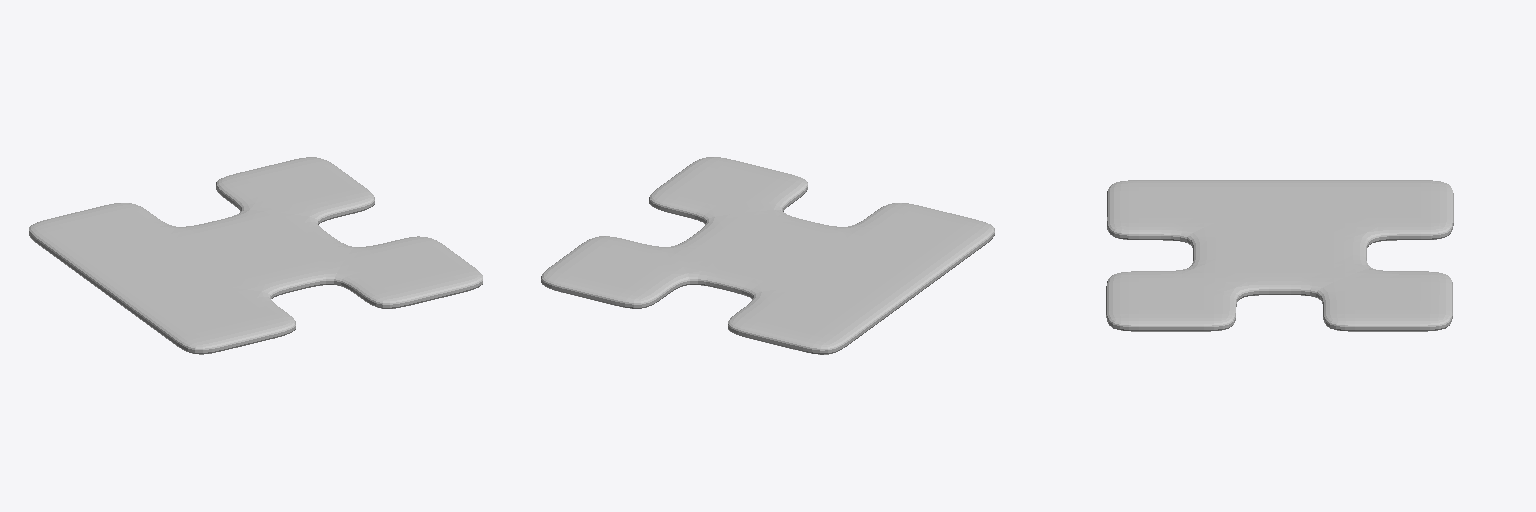
Rendered from GoldenPuzzle-16-OFFF.obj.
3 renders of one model, left to right at view 1: azimuth 30°, elevation 25°; view 2: azimuth 150°, elevation 25°; view 3: azimuth 270°, elevation 25°, orthographic.
Parts seen in each view (by area): view 1: Puzzle.016; view 2: Puzzle.016; view 3: Puzzle.016.
Boxes of the visible parts, x1=… form: Puzzle.016: x1=29, y1=157, x2=482, y2=354; Puzzle.016: x1=541, y1=157, x2=994, y2=354; Puzzle.016: x1=1106, y1=180, x2=1453, y2=331.
Size of the model in its own units: 0.25 by 0.0092 by 0.2514.